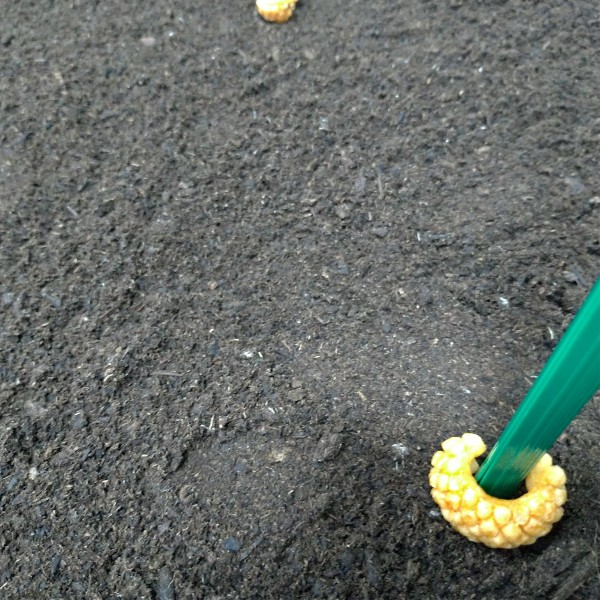eggs: (424, 419, 575, 554), (251, 1, 299, 27)
